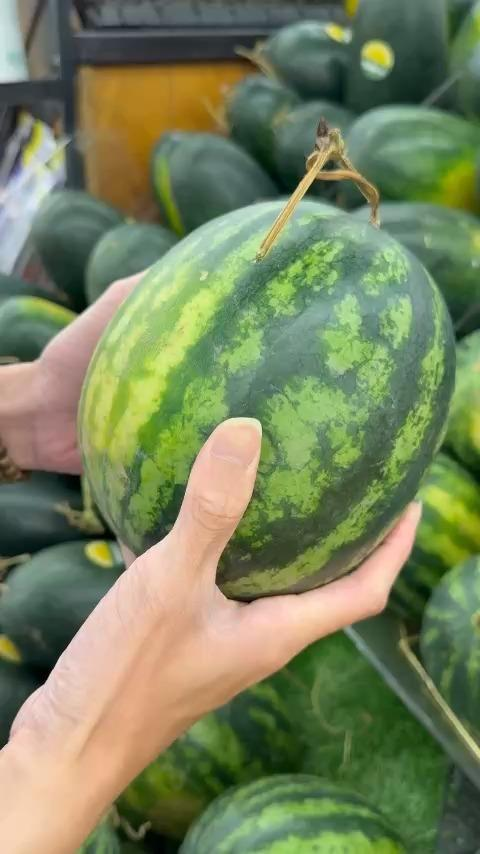watermelon: (63, 185, 452, 604)
